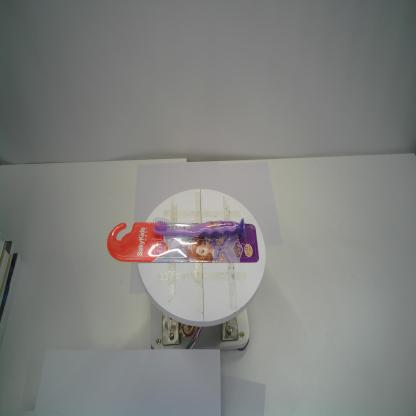Personal Hygiene: (106, 216, 260, 264)
